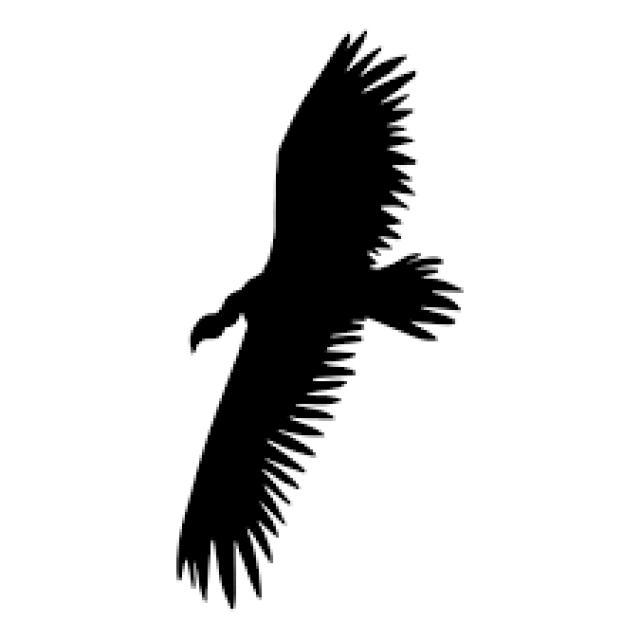bird: (97, 40, 515, 640)
